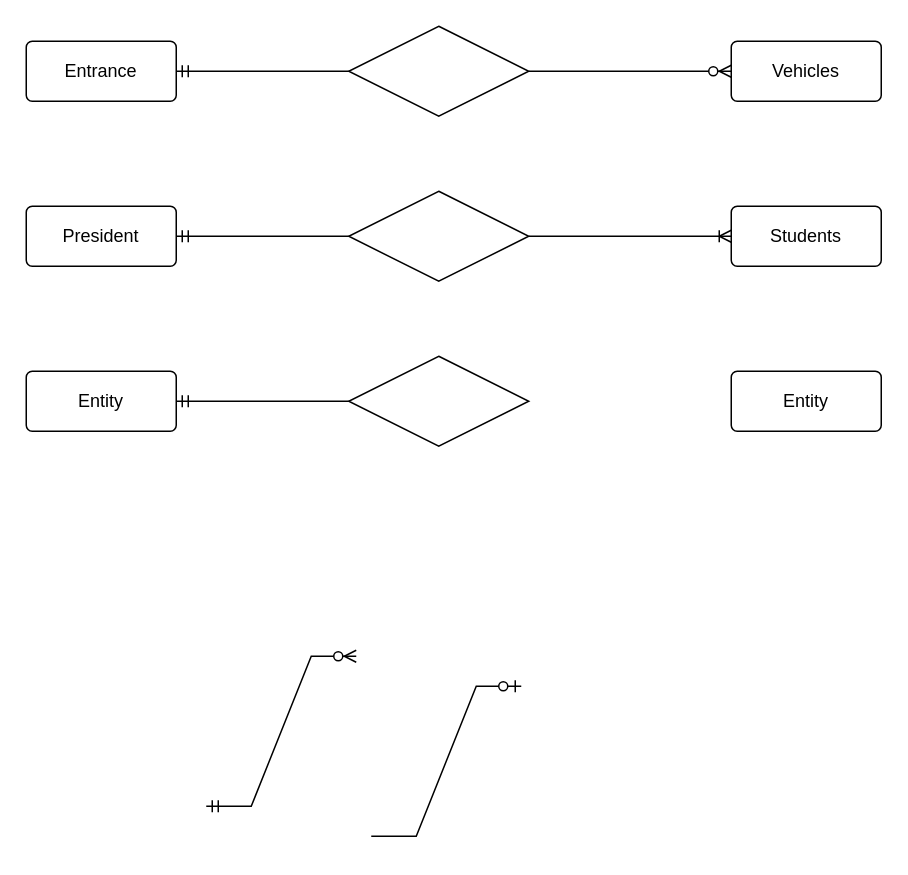
The diagram is 908 pixels wide and 875 high, and some of its shapes have lost their labels. Here are the shapes that lost their labels. From the top down, the centre of each, then its label:
At (438,70): "Parking Lot".
At (438,235): "College".
At (438,400): "Relationship".
